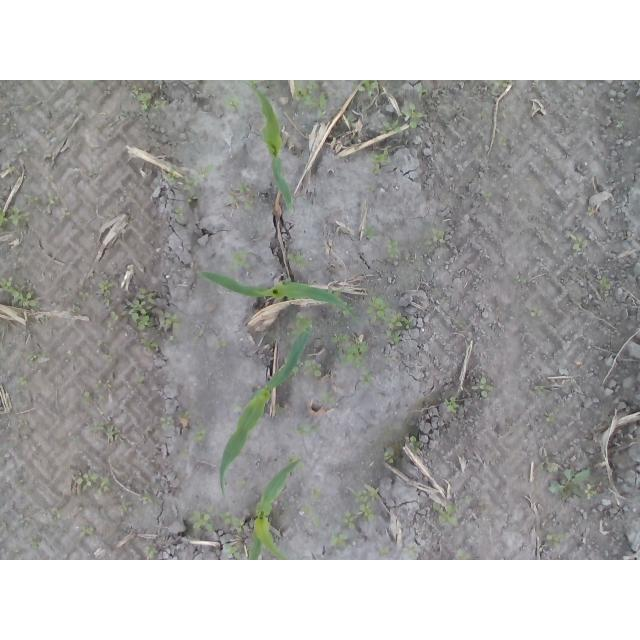Maize: (219, 324, 314, 499), (195, 268, 362, 325), (242, 81, 294, 212), (245, 460, 300, 561)
Weeds: (545, 464, 596, 501), (295, 80, 329, 117), (128, 287, 157, 330), (9, 284, 41, 310), (341, 338, 367, 369), (0, 205, 30, 231), (366, 295, 393, 322), (188, 507, 216, 532), (433, 501, 459, 525), (131, 84, 152, 112), (219, 513, 249, 532), (288, 315, 312, 338), (404, 103, 425, 129), (370, 148, 391, 174), (471, 377, 494, 399), (228, 249, 252, 270), (353, 485, 382, 502), (222, 94, 246, 113), (76, 473, 99, 492), (390, 312, 415, 328), (357, 502, 376, 523), (357, 80, 380, 97), (162, 311, 183, 329), (341, 510, 359, 531), (386, 237, 402, 260), (379, 119, 403, 134), (490, 80, 515, 94), (193, 419, 208, 442), (546, 533, 566, 550), (302, 360, 322, 377), (295, 423, 321, 436), (330, 531, 348, 549), (570, 233, 589, 250), (184, 172, 201, 191), (287, 253, 310, 267), (358, 368, 374, 388), (406, 435, 423, 453), (225, 542, 243, 559), (403, 542, 422, 558), (336, 301, 356, 316), (285, 456, 305, 471), (443, 395, 459, 413), (430, 227, 446, 245), (319, 390, 337, 406), (282, 356, 300, 372), (385, 329, 403, 344), (97, 477, 112, 495), (327, 285, 339, 307), (106, 425, 122, 441), (597, 276, 612, 293), (139, 336, 157, 350), (361, 227, 377, 242), (226, 187, 238, 206), (165, 166, 179, 182), (99, 279, 113, 295), (152, 100, 169, 113), (80, 390, 93, 407), (330, 331, 350, 342), (120, 499, 135, 513), (140, 489, 154, 504), (144, 543, 159, 557), (88, 420, 104, 433), (199, 164, 213, 178), (160, 416, 173, 431), (480, 189, 493, 203), (237, 180, 251, 193), (4, 161, 16, 176), (456, 549, 472, 560), (476, 109, 492, 120), (110, 309, 126, 320), (310, 488, 323, 501), (0, 276, 12, 290), (134, 369, 146, 383), (81, 527, 96, 538), (382, 452, 394, 465), (16, 142, 28, 155), (301, 503, 314, 515), (177, 409, 191, 420), (531, 307, 546, 317), (78, 289, 90, 301), (244, 199, 256, 211), (173, 206, 185, 218), (187, 193, 200, 204), (274, 403, 285, 416), (214, 338, 226, 349), (52, 508, 63, 520), (515, 275, 528, 285), (248, 80, 261, 90), (102, 353, 115, 363), (26, 353, 42, 361), (67, 304, 81, 313), (343, 114, 357, 123), (194, 329, 205, 340), (99, 395, 110, 406), (417, 87, 428, 98), (533, 383, 545, 393), (48, 191, 56, 205), (545, 412, 555, 423), (61, 209, 71, 220), (29, 539, 40, 549), (365, 184, 377, 193), (236, 478, 248, 487), (103, 297, 113, 307), (314, 517, 323, 528), (587, 206, 596, 216), (25, 194, 35, 203), (23, 104, 33, 113), (164, 336, 174, 345), (180, 449, 189, 459), (17, 420, 26, 429), (70, 100, 79, 109), (500, 136, 508, 146), (500, 107, 508, 117), (17, 377, 27, 385), (0, 521, 8, 531), (380, 546, 389, 554), (2, 118, 11, 126), (384, 354, 394, 361), (107, 323, 114, 333), (617, 120, 625, 128), (234, 402, 242, 410), (336, 347, 344, 354), (332, 321, 340, 328), (89, 80, 96, 84)
